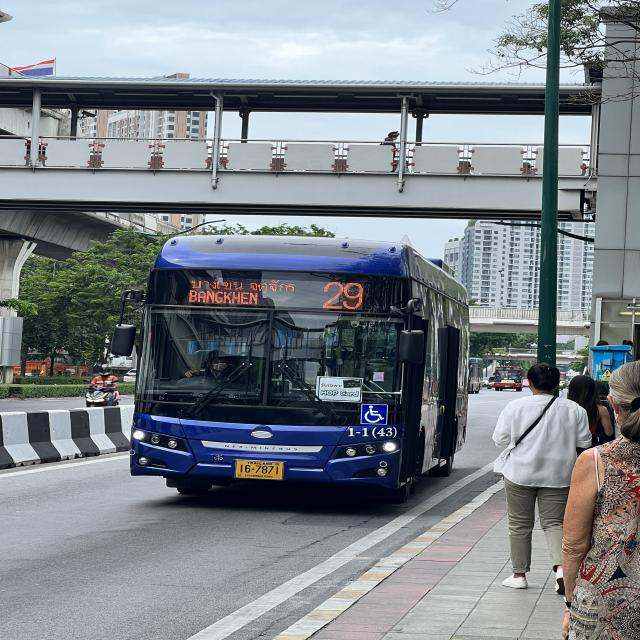Bus Line Number: (315, 275, 374, 313)
Bus Side Number: (341, 423, 401, 440)
Destination Sign: (180, 272, 302, 312)
TSB-Bus: (128, 236, 471, 503)
